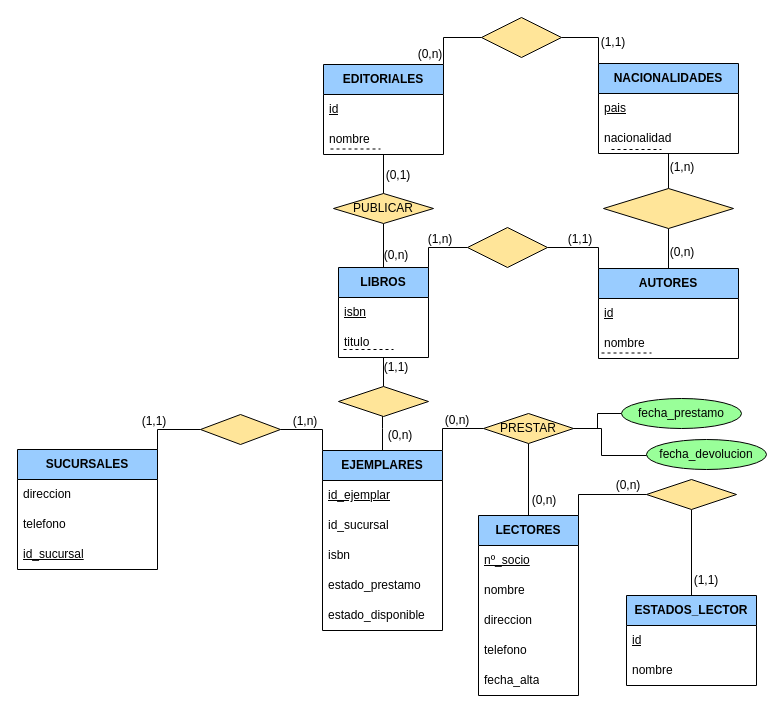
Image size: 784x713. Some labels were removed from this diagram. The centre of each missing label's shape, as x and y in pixels:
CREAR: pixel 507 247
ESTAR: pixel 691 494
PERTENECER: pixel 668 208
SURGIR: pixel 521 37
TENER: pixel 383 401
UBICAR: pixel 240 429
